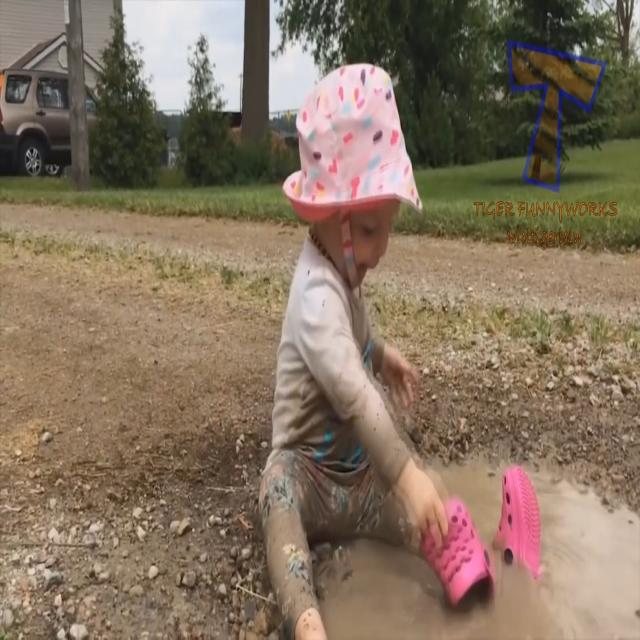safe: (267, 57, 435, 640)
